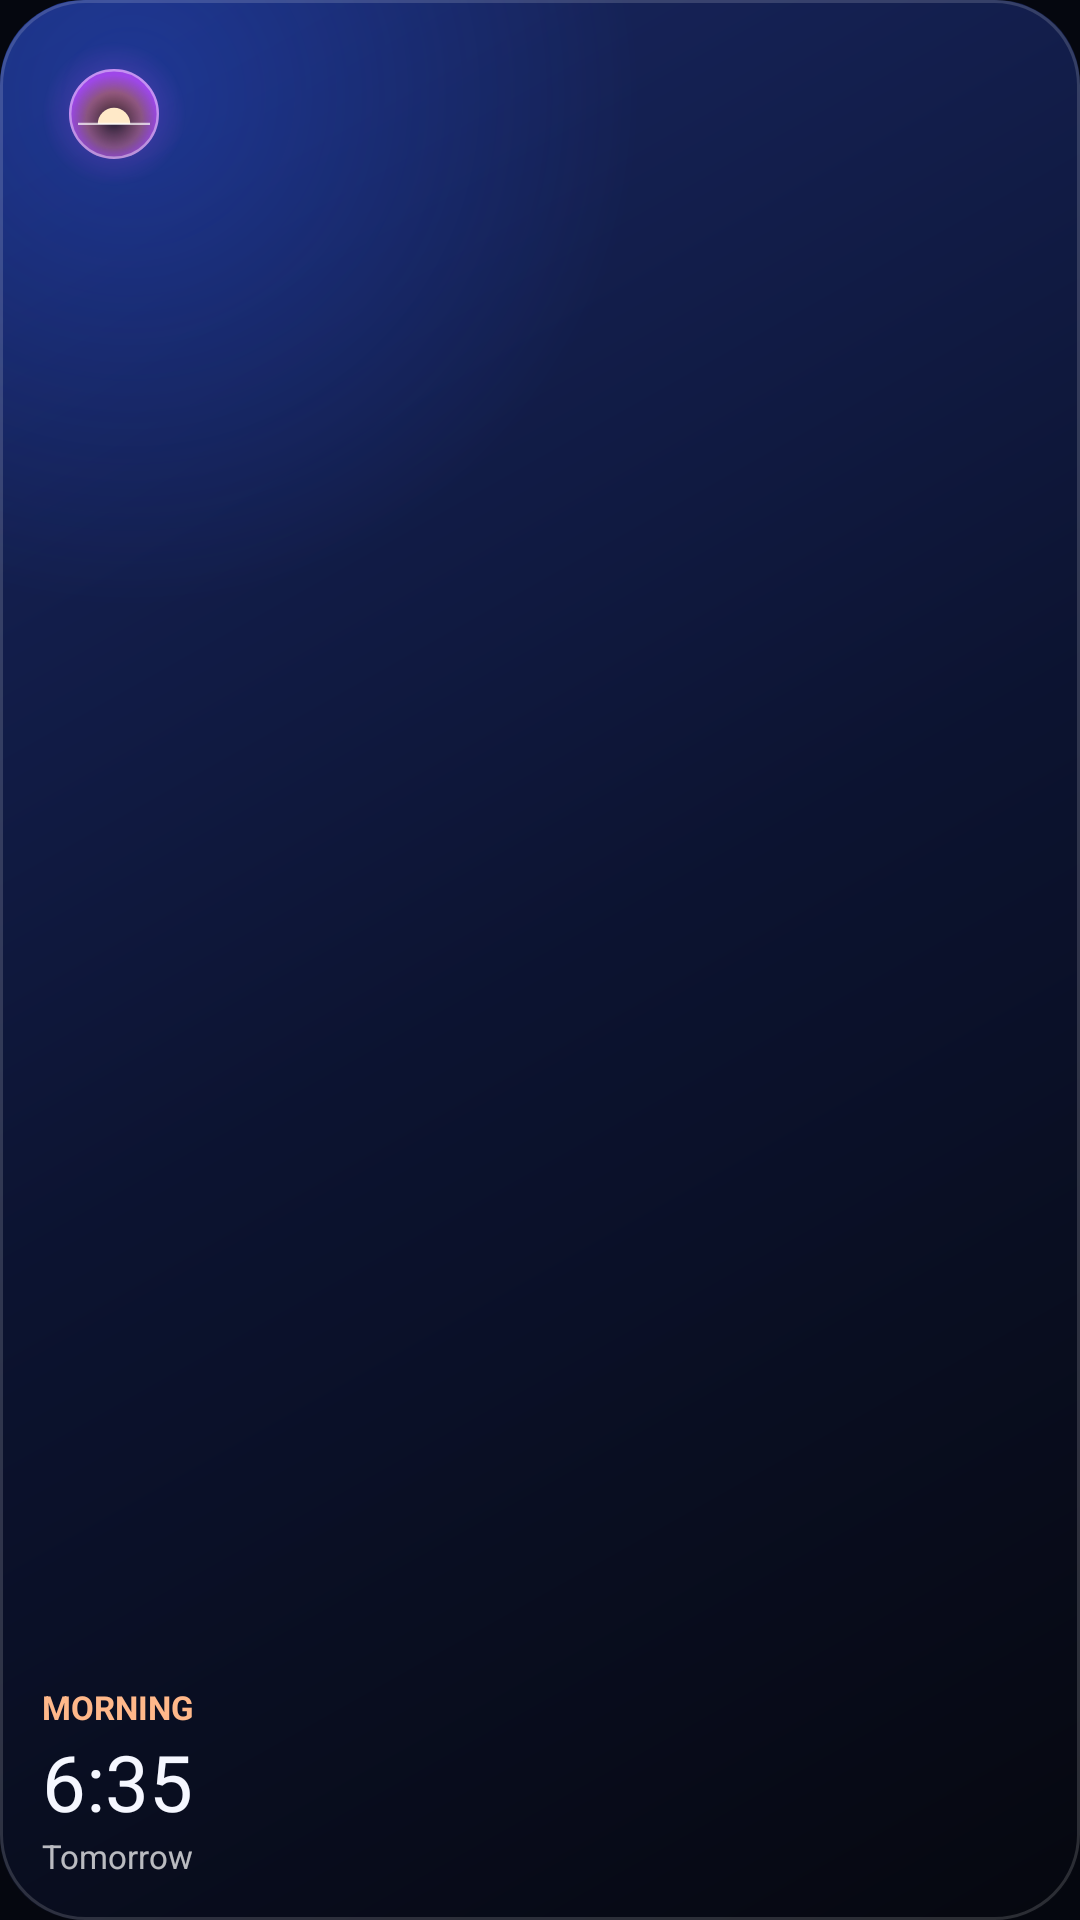

Icon click points for this 1080x1920 phone screenshot, format (x,y):
widget orb: (114,114)
